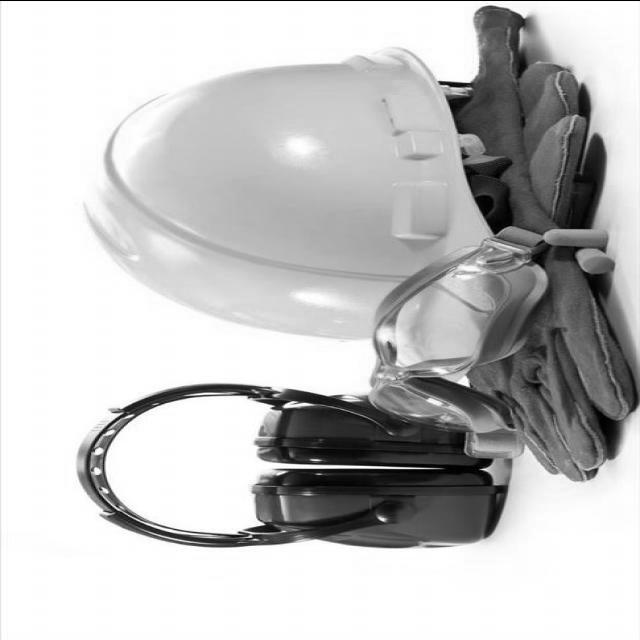construction helmet: (88, 46, 495, 341)
